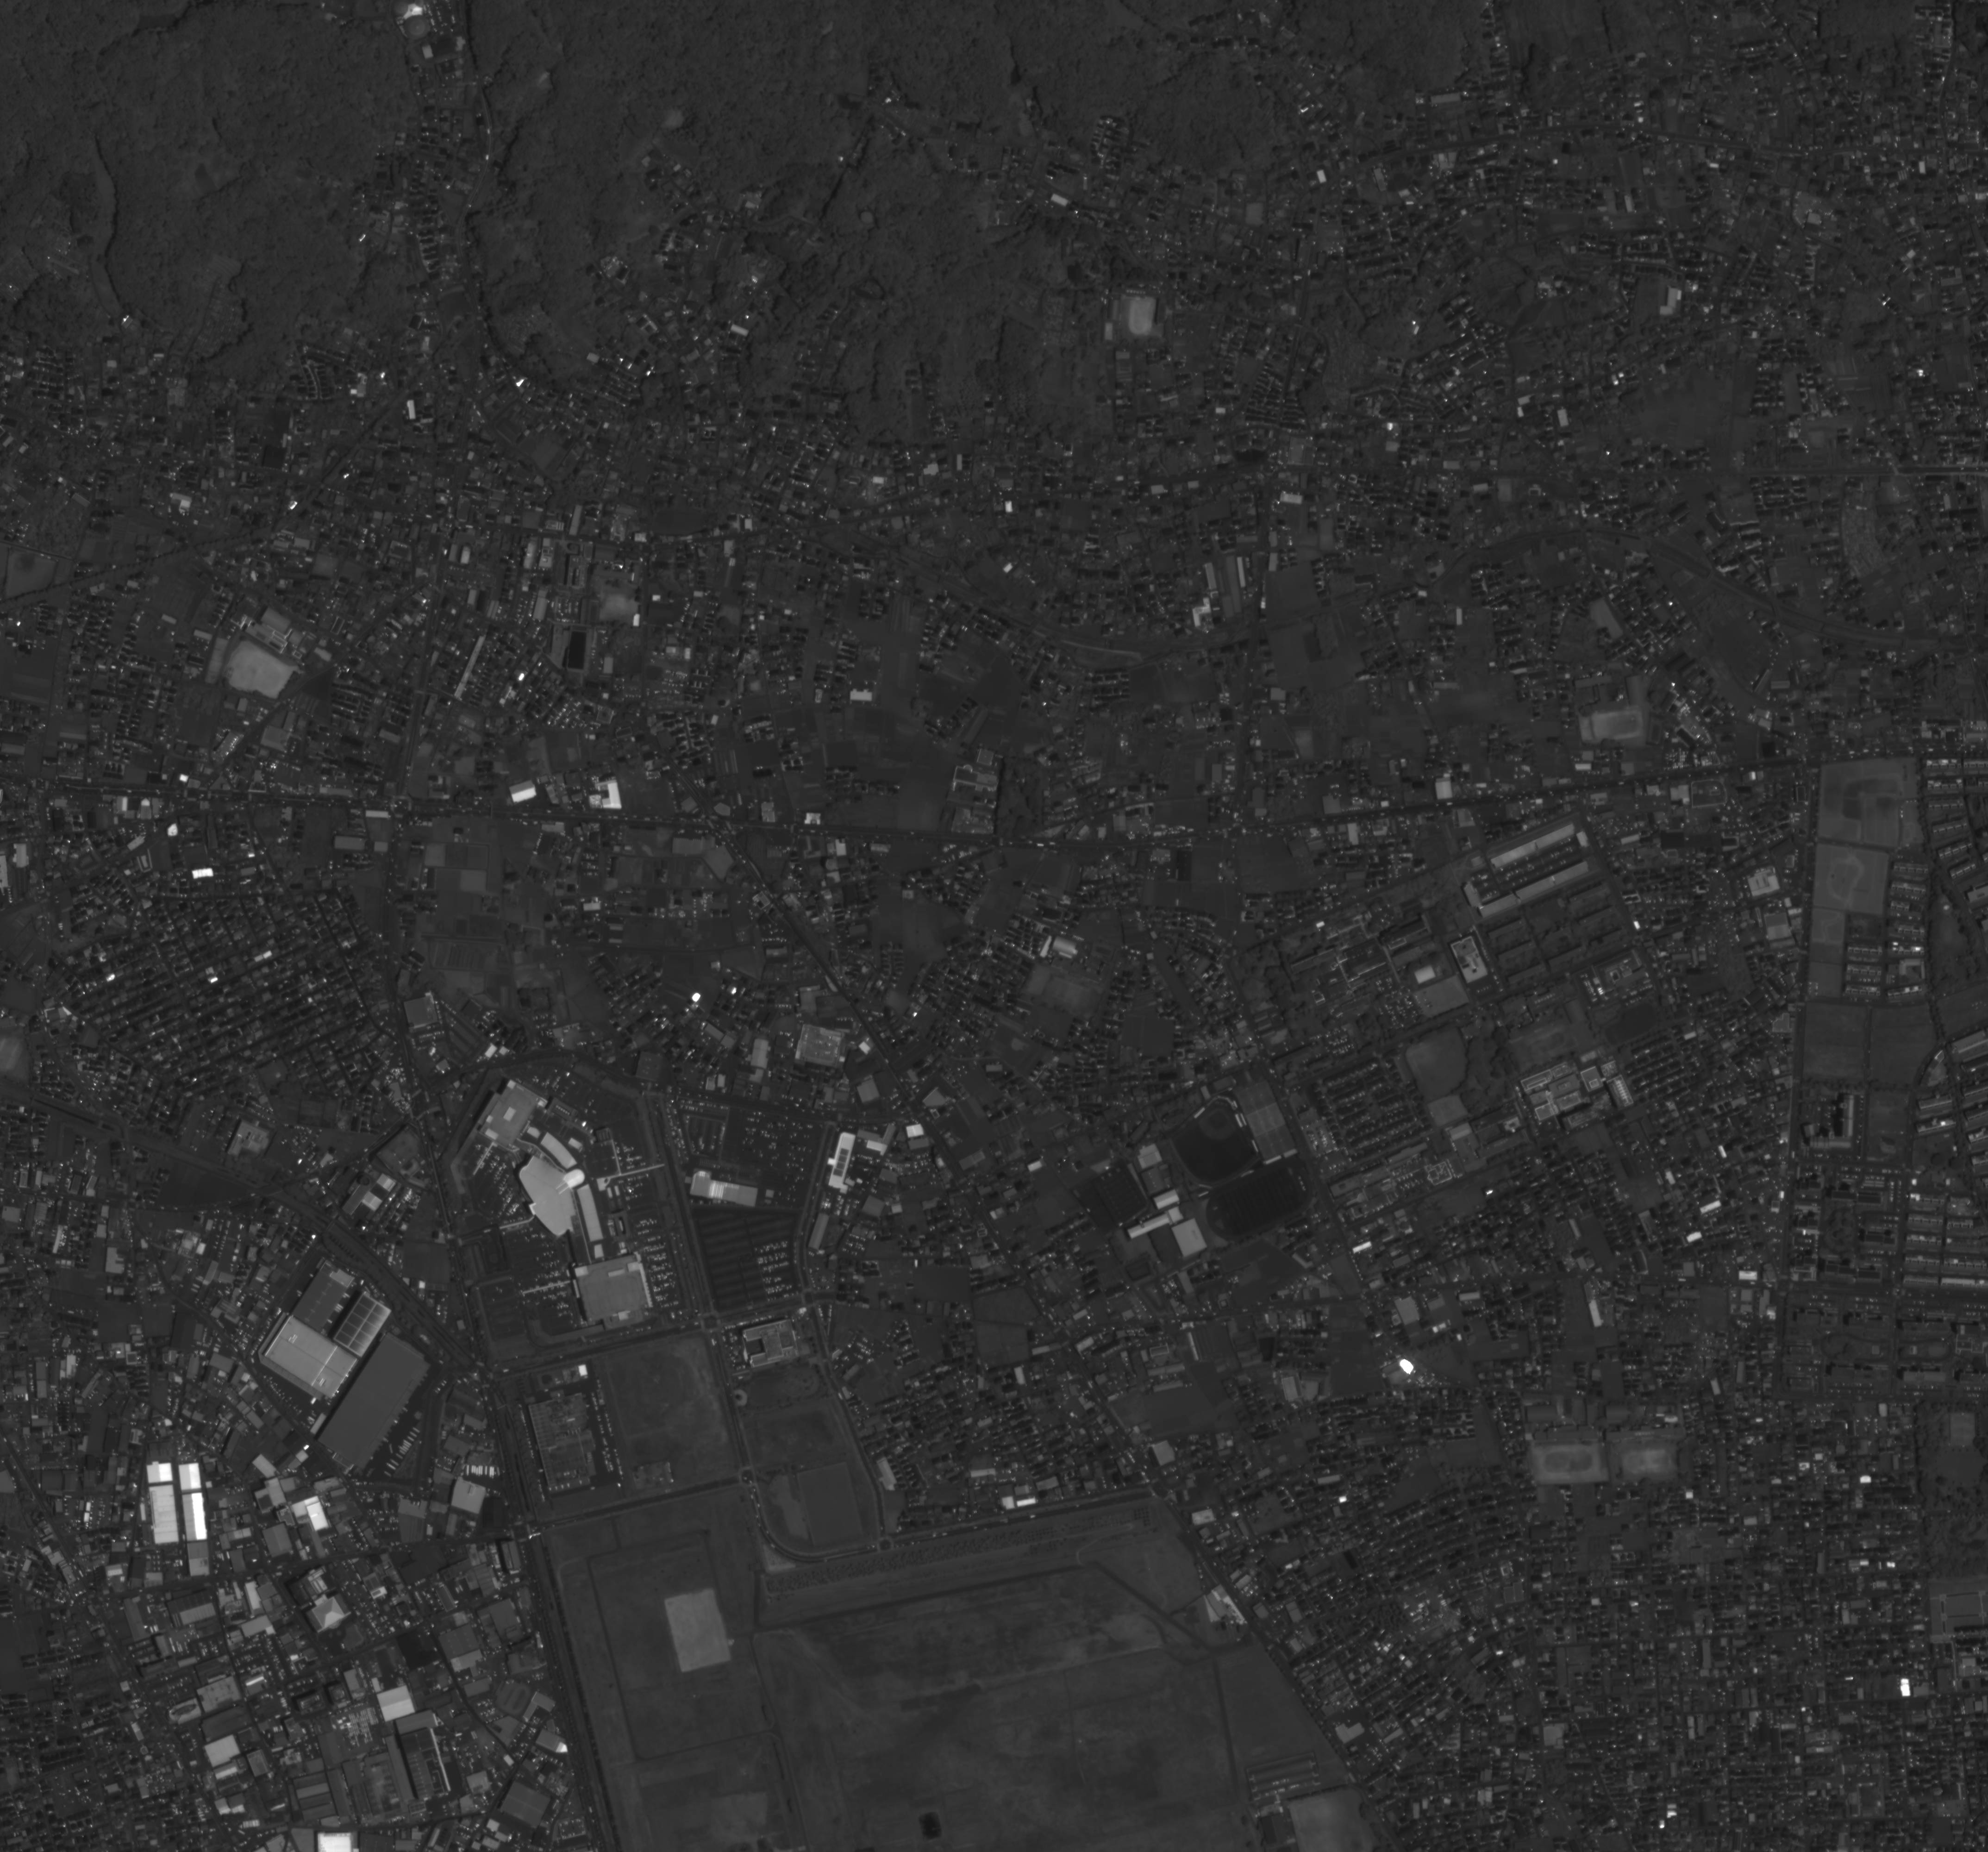baseball diamond: (1192, 1100, 1239, 1149), (1407, 1037, 1447, 1077), (9, 552, 40, 581)
bridge: (256, 1182, 284, 1199), (1769, 597, 1786, 623), (320, 1218, 339, 1236), (1025, 616, 1044, 632), (1704, 566, 1720, 583), (1962, 635, 1978, 651), (122, 1126, 134, 1145), (937, 573, 947, 588), (1248, 623, 1260, 635), (1903, 637, 1910, 651)
ground track field: (1199, 1163, 1309, 1243), (1516, 1023, 1574, 1062), (1535, 1446, 1598, 1474), (1621, 1446, 1673, 1474), (1126, 294, 1156, 341)
